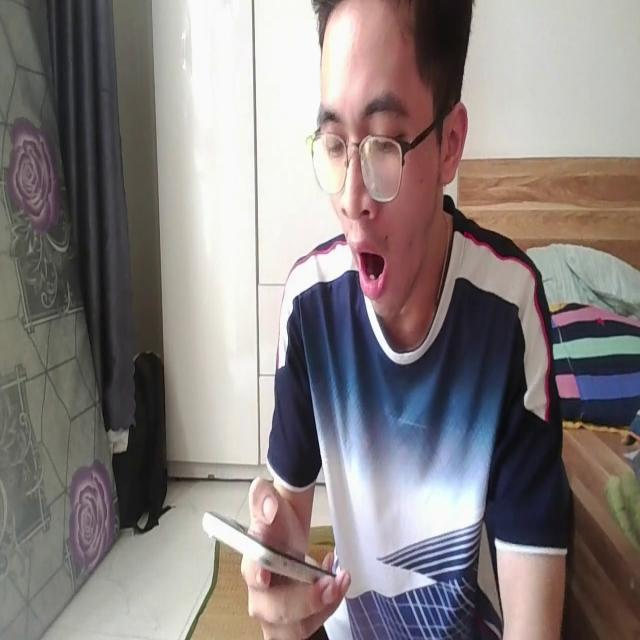phone: (203, 497, 344, 596)
student: (246, 0, 565, 640)
